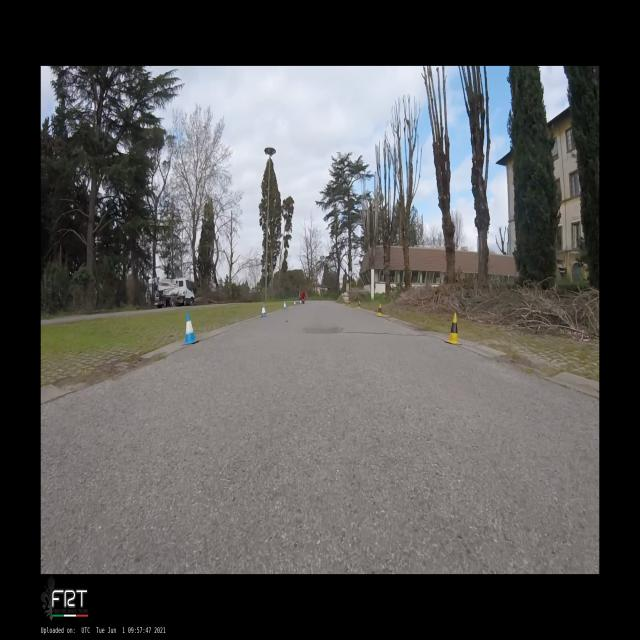blue_cone: (184, 312, 198, 344), (260, 305, 268, 317), (283, 302, 287, 310)
yellow_cone: (444, 312, 462, 344), (377, 303, 382, 316), (358, 301, 361, 309), (348, 301, 351, 306)
